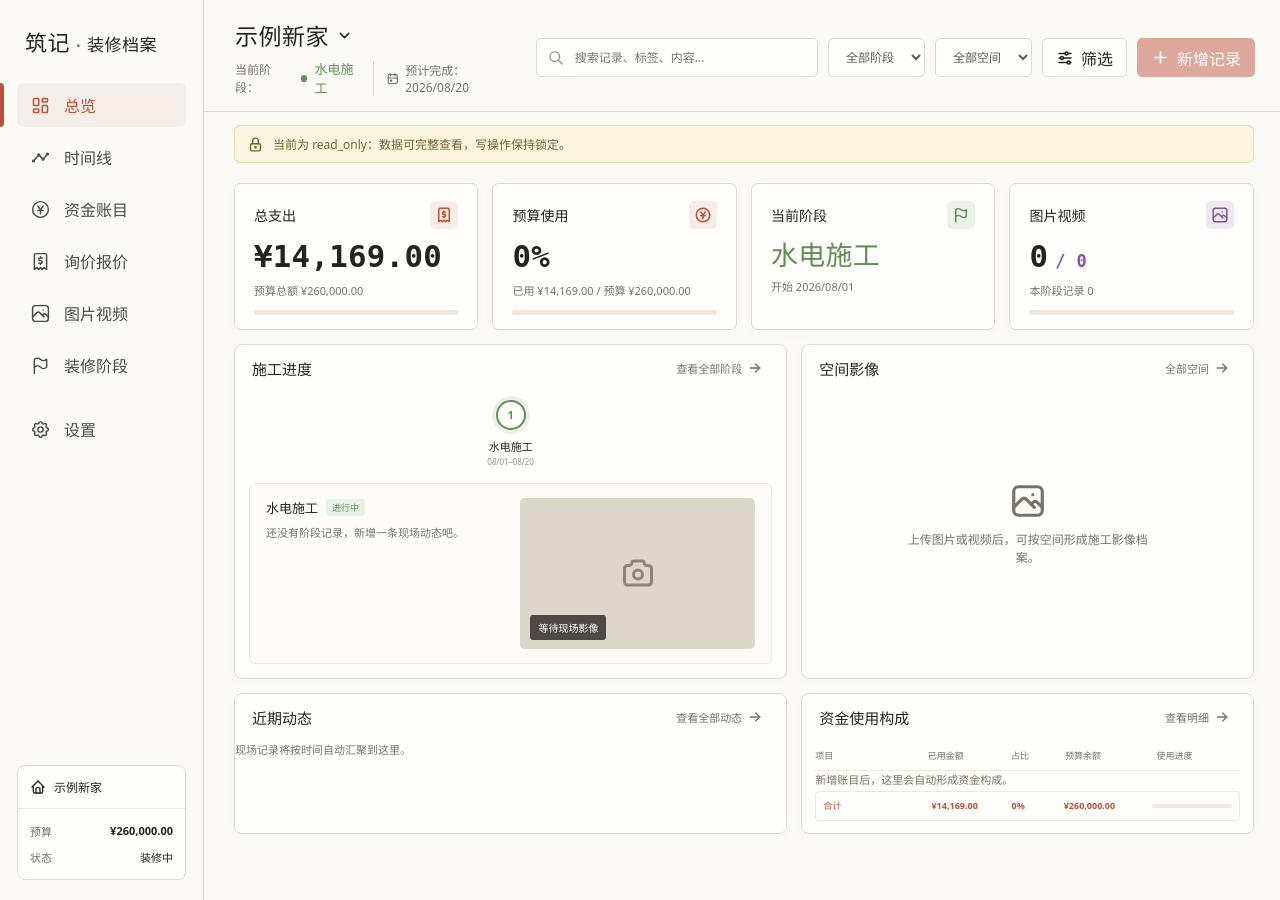
Test: Renovation Hub app › shows multi-supplier quotes and opens the original image viewer
Expected: the text "总支出" is shown, [254,205,296,225]
Click the button "询价报价" at (102, 261), box [17,239,186,283]
(page scrolled)
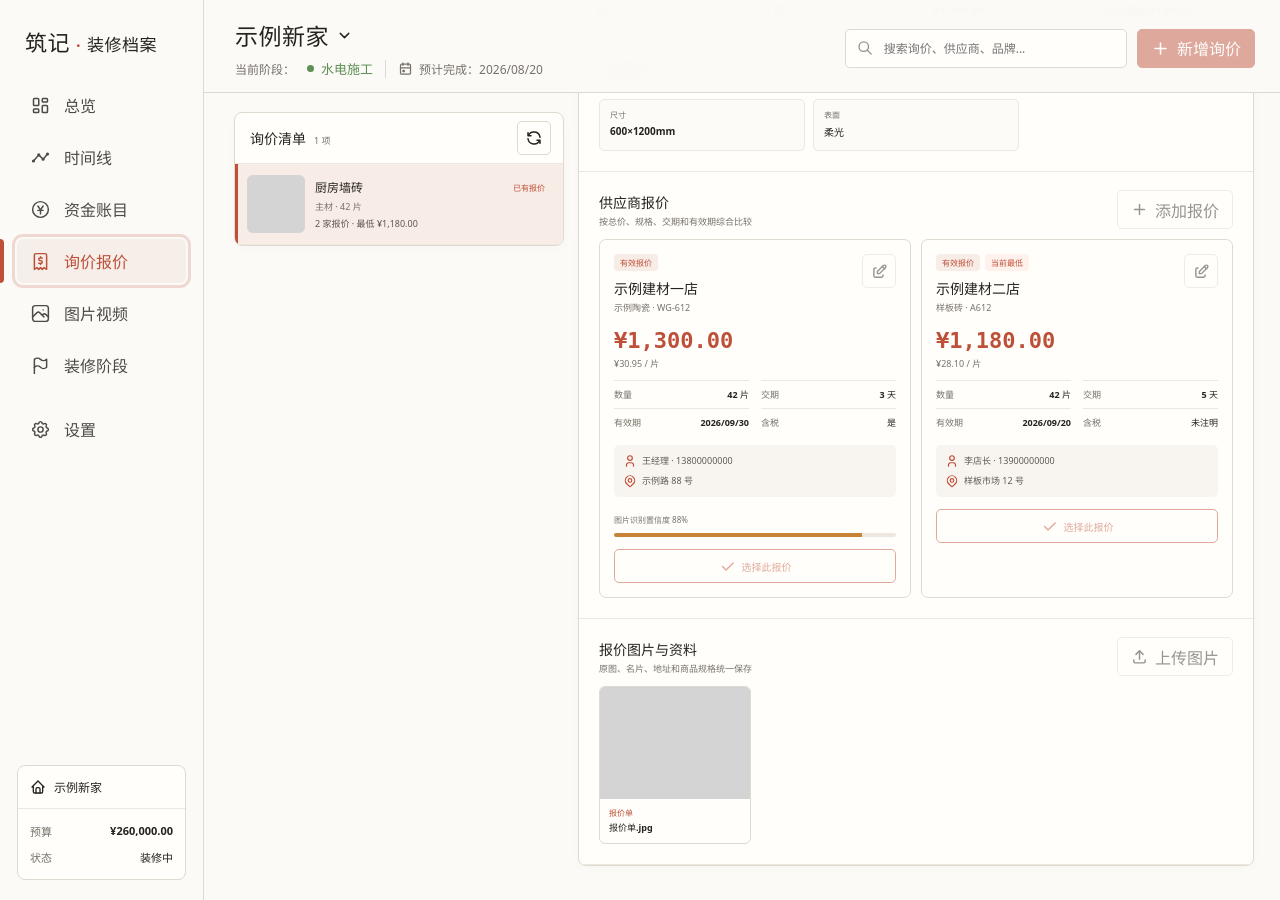
Result: the heading "示例建材一店" is shown at [614,278,698,298]
Result: the heading "示例建材二店" is shown at [936,278,1029,298]
Result: the text "当前最低" is shown 2 times
Click the button "报价单 报价单.jpg" at (675, 765), box [599,686,751,844]
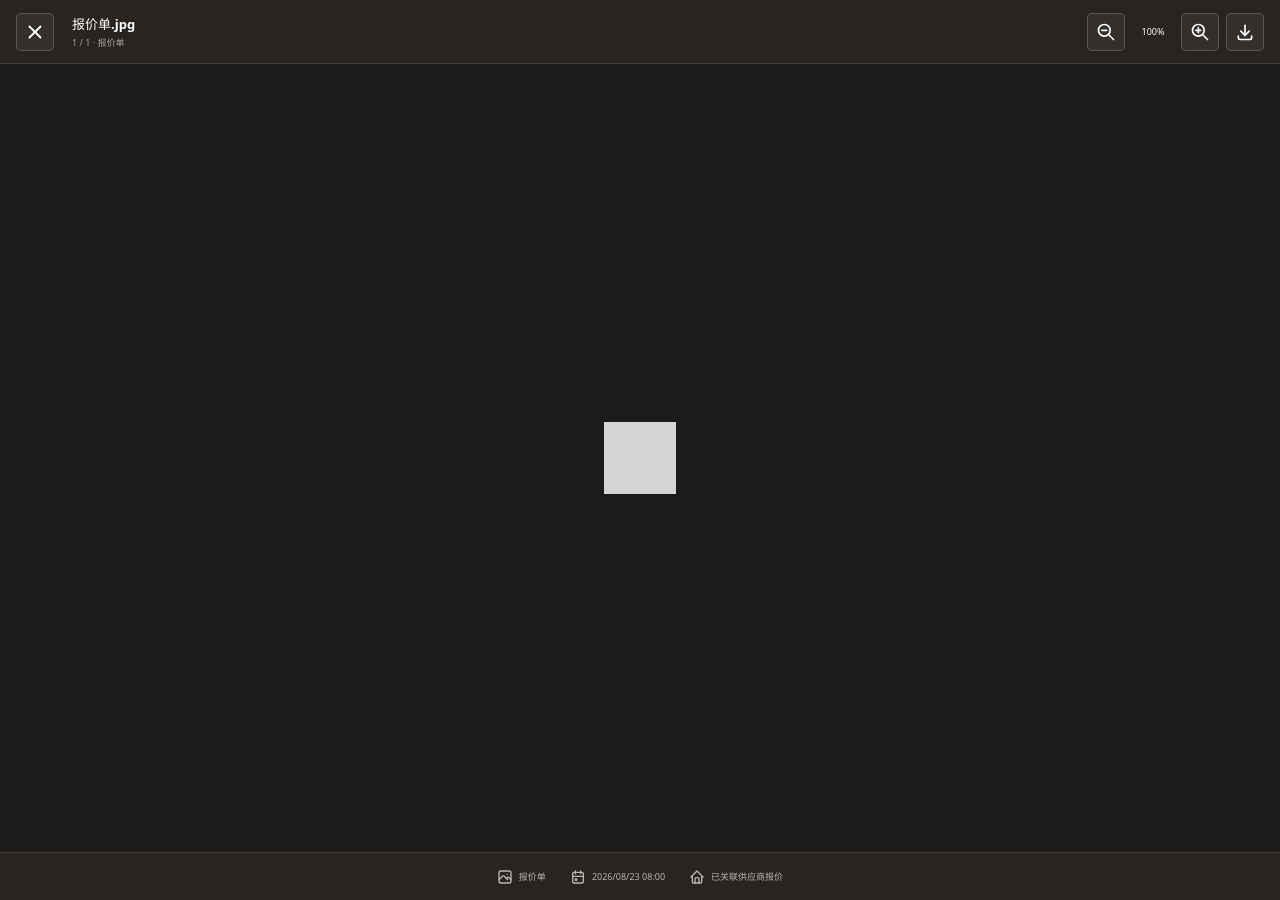
Result: the dialog named "报价原图查看器" is shown
